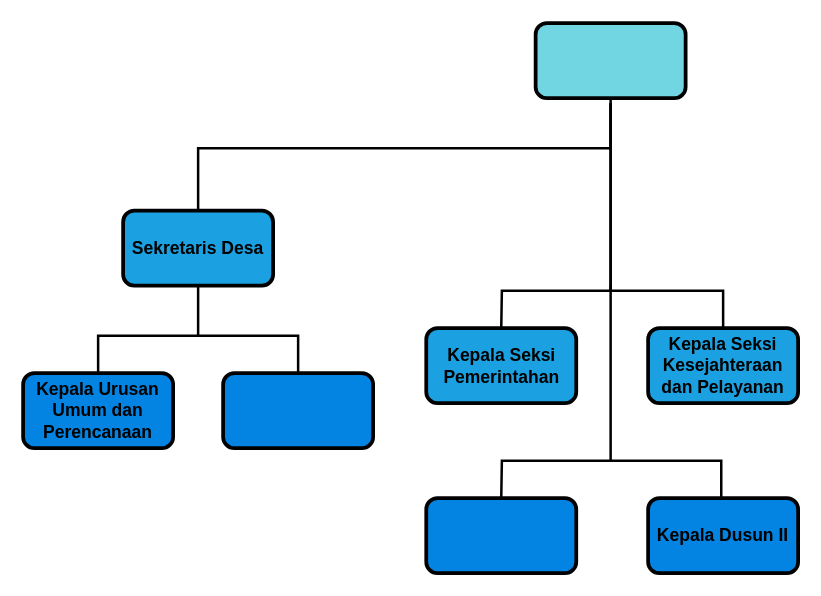
This 821x596 diagram has some shape labels left out. Each missing label, with the box of its shape:
Kepala Desa: (533, 21, 687, 99)
Kepala Dusun I: (424, 496, 578, 574)
Kepala Urusan Keuangan: (221, 371, 374, 449)
